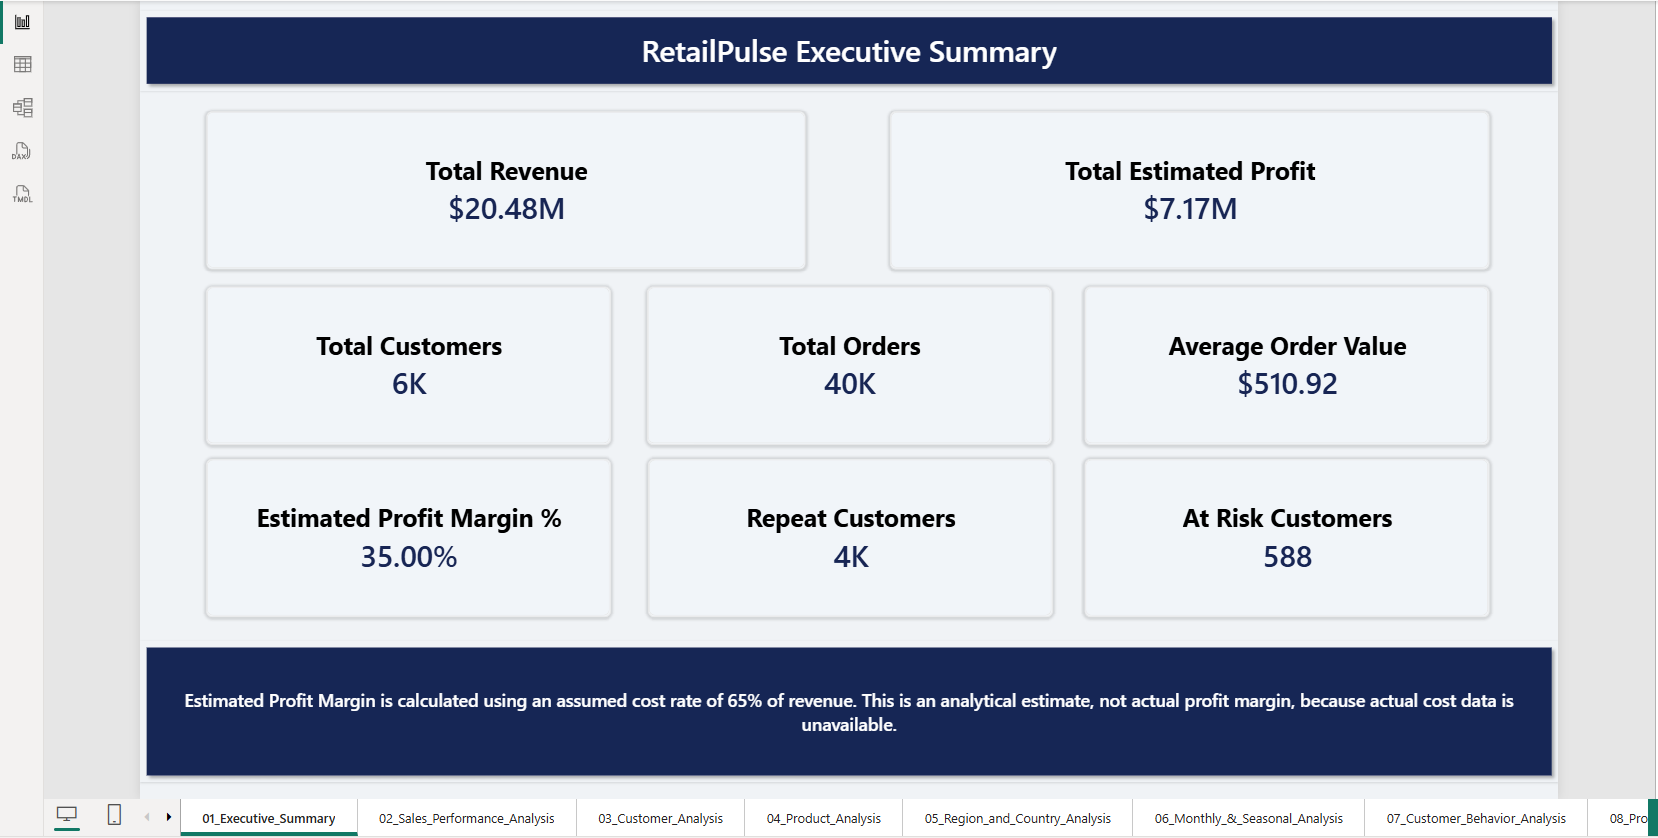

This screenshot's page, from the dashboard's own definition file:
{"tool":"powerbi","page":{"name":"01_Executive_Summary","canvas":[1920,1080],"ordinal":0},"visuals":[{"type":"shape","box":[0,13.7,1920.6,108.1],"z":0},{"type":"cardVisual","title":"Total Revenue","fields":{"Data":["KPI Measures.Total Revenue"]},"box":[90.3,149,811.1,213.7],"z":1000},{"type":"cardVisual","title":"Total Revenue","fields":{"Data":["KPI Measures.Total Estimated Profit"]},"box":[1015.8,149,811.1,213.7],"z":2000},{"type":"cardVisual","title":"Total Revenue","fields":{"Data":["KPI Measures.Total Customers"]},"box":[90.3,386.8,547.8,213.7],"z":3000},{"type":"cardVisual","title":"Total Revenue","fields":{"Data":["KPI Measures.Total Orders"]},"box":[686.2,386.8,547.8,213.7],"z":4000},{"type":"cardVisual","title":"Total Revenue","fields":{"Data":["KPI Measures.Average Order Value"]},"box":[1279.2,386.8,547.8,213.7],"z":5000},{"type":"cardVisual","title":"Total Revenue","fields":{"Data":["KPI Measures.Estimated Profit Margin %"]},"box":[90.1,619.5,547.8,213.7],"z":6000},{"type":"cardVisual","title":"Total Revenue","fields":{"Data":["KPI Measures.Repeat Customers"]},"box":[687.5,619.5,547.8,213.7],"z":7000},{"type":"cardVisual","title":"Total Revenue","fields":{"Data":["KPI Measures.At Risk Customers"]},"box":[1278.6,619.5,547.8,213.7],"z":8000},{"type":"shape","box":[0,866.3,1920.2,191.2],"z":9000}]}

Visuals, with their boxes on the page's 1920x1080 design canvas (x1, y1, x2, y2). These are canvas units, not pixel positions in the 1658x838 screenshot, which may show the page scaled, cropped or inside an application window:
shape: (left=0, top=14, right=1921, bottom=122)
"Total Revenue" cardVisual: (left=90, top=149, right=901, bottom=363)
"Total Revenue" cardVisual: (left=1016, top=149, right=1827, bottom=363)
"Total Revenue" cardVisual: (left=90, top=387, right=638, bottom=600)
"Total Revenue" cardVisual: (left=686, top=387, right=1234, bottom=600)
"Total Revenue" cardVisual: (left=1279, top=387, right=1827, bottom=600)
"Total Revenue" cardVisual: (left=90, top=620, right=638, bottom=833)
"Total Revenue" cardVisual: (left=688, top=620, right=1235, bottom=833)
"Total Revenue" cardVisual: (left=1279, top=620, right=1826, bottom=833)
shape: (left=0, top=866, right=1920, bottom=1058)
